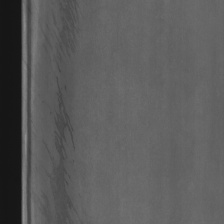water_spot: (38, 0, 85, 218)
